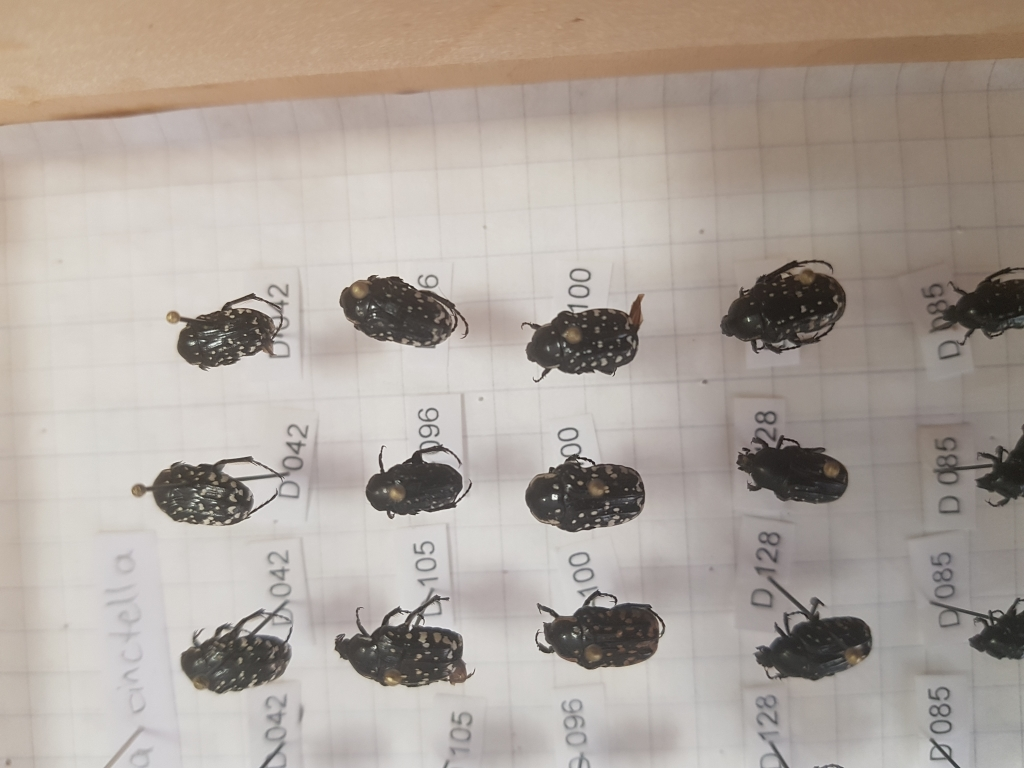Oxythyrea_cinctella: (333, 591, 479, 693), (515, 288, 653, 384), (720, 257, 848, 355), (331, 270, 476, 354), (173, 603, 304, 694), (528, 592, 668, 674), (519, 448, 653, 533), (736, 421, 855, 514), (142, 455, 287, 531), (167, 286, 293, 370), (756, 607, 876, 681), (362, 440, 476, 513)
